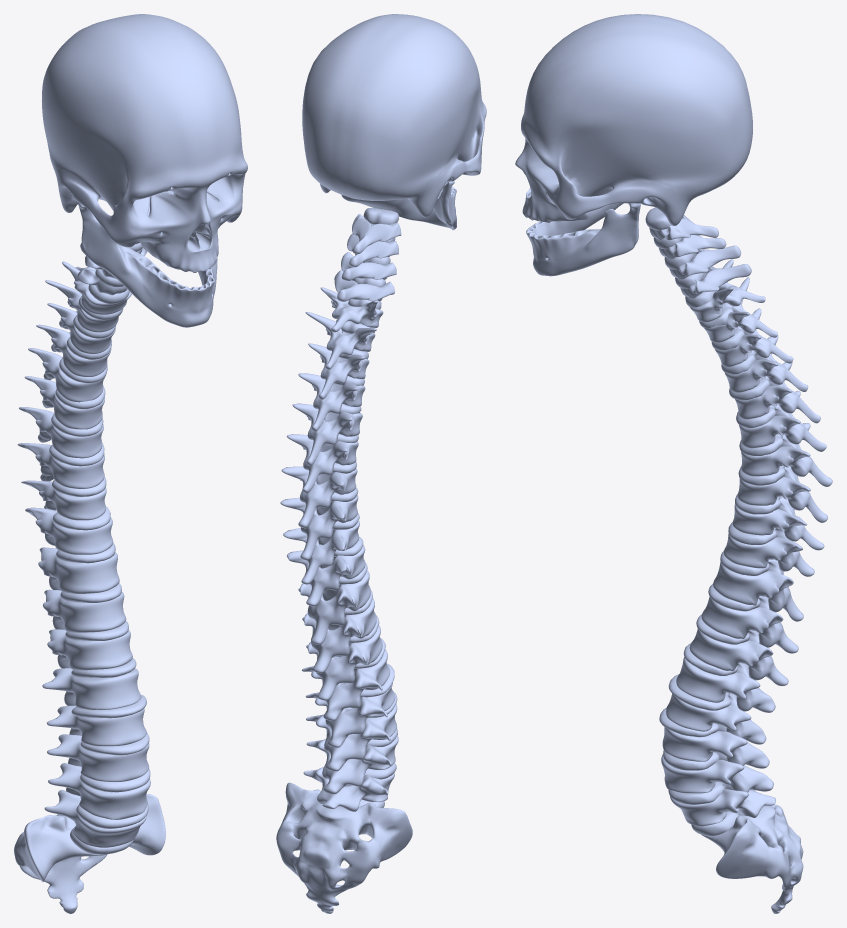
Rendered from spine.glb.
3 renders of one model, left to right at view 1: azimuth 30°, elevation 25°; view 2: azimuth 150°, elevation 25°; view 3: azimuth 270°, elevation 25°, orthographic. The views are drawn at different scales.
Parts seen in each view (by area): view 1: Male_Skeletal_Skull_Geo_skull bones_0, Male_Skeletal_Intervertabral_Discs_Geo_discs_0, Male_Skeletal_Sacrum_Geo_bones sacrum_0, Male_Skeletal_Mandible_Geo_jawbones_0, Male_Skeletal_L01_Geo_bones back_0, Male_Skeletal_L03_Geo_bones back_0, Male_Skeletal_L04_Geo_bones back_0, Male_Skeletal_T10_Geo_bones back_0, Male_Skeletal_T11_Geo_bones back_0, Male_Skeletal_T12_Geo_bones back_0, Male_Skeletal_L02_Geo_bones back_0, Male_Skeletal_T09_Geo_bones back_0 (+11 smaller); view 2: Male_Skeletal_Skull_Geo_skull bones_0, Male_Skeletal_Sacrum_Geo_bones sacrum_0, Male_Skeletal_Intervertabral_Discs_Geo_discs_0, Male_Skeletal_T10_Geo_bones back_0, Male_Skeletal_L03_Geo_bones back_0, Male_Skeletal_T11_Geo_bones back_0, Male_Skeletal_L04_Geo_bones back_0, Male_Skeletal_T12_Geo_bones back_0, Male_Skeletal_L01_Geo_bones back_0, Male_Skeletal_T06_Geo_bones back_0, Male_Skeletal_L02_Geo_bones back_0, Male_Skeletal_T07_Geo_bones back_0 (+14 smaller); view 3: Male_Skeletal_Skull_Geo_skull bones_0, Male_Skeletal_Intervertabral_Discs_Geo_discs_0, Male_Skeletal_Sacrum_Geo_bones sacrum_0, Male_Skeletal_Mandible_Geo_jawbones_0, Male_Skeletal_L01_Geo_bones back_0, Male_Skeletal_T10_Geo_bones back_0, Male_Skeletal_T11_Geo_bones back_0, Male_Skeletal_T12_Geo_bones back_0, Male_Skeletal_L04_Geo_bones back_0, Male_Skeletal_L03_Geo_bones back_0, Male_Skeletal_L02_Geo_bones back_0, Male_Skeletal_T09_Geo_bones back_0 (+14 smaller).
Part boxes in pixels (x1=…): Male_Skeletal_Skull_Geo_skull bones_0: x1=42, y1=14, x2=247, y2=272; Male_Skeletal_Intervertabral_Discs_Geo_discs_0: x1=49, y1=243, x2=150, y2=854; Male_Skeletal_Sacrum_Geo_bones sacrum_0: x1=14, y1=794, x2=165, y2=913; Male_Skeletal_Mandible_Geo_jawbones_0: x1=77, y1=202, x2=217, y2=327; Male_Skeletal_L01_Geo_bones back_0: x1=42, y1=668, x2=141, y2=709; Male_Skeletal_L03_Geo_bones back_0: x1=47, y1=734, x2=149, y2=782; Male_Skeletal_L04_Geo_bones back_0: x1=48, y1=763, x2=150, y2=819; Male_Skeletal_T10_Geo_bones back_0: x1=38, y1=547, x2=119, y2=593; Male_Skeletal_T11_Geo_bones back_0: x1=43, y1=589, x2=126, y2=632; Male_Skeletal_T12_Geo_bones back_0: x1=47, y1=629, x2=132, y2=670; Male_Skeletal_L02_Geo_bones back_0: x1=47, y1=705, x2=146, y2=746; Male_Skeletal_T09_Geo_bones back_0: x1=25, y1=507, x2=113, y2=554; Male_Skeletal_Skull_Geo_skull bones_0: x1=302, y1=14, x2=486, y2=217; Male_Skeletal_Sacrum_Geo_bones sacrum_0: x1=276, y1=782, x2=412, y2=913; Male_Skeletal_Intervertabral_Discs_Geo_discs_0: x1=320, y1=208, x2=398, y2=807; Male_Skeletal_T10_Geo_bones back_0: x1=298, y1=570, x2=370, y2=644; Male_Skeletal_L03_Geo_bones back_0: x1=306, y1=704, x2=397, y2=771; Male_Skeletal_T11_Geo_bones back_0: x1=302, y1=598, x2=376, y2=673; Male_Skeletal_L04_Geo_bones back_0: x1=306, y1=736, x2=398, y2=794; Male_Skeletal_T12_Geo_bones back_0: x1=306, y1=625, x2=382, y2=700; Male_Skeletal_L01_Geo_bones back_0: x1=302, y1=649, x2=389, y2=720; Male_Skeletal_T06_Geo_bones back_0: x1=281, y1=466, x2=357, y2=528; Male_Skeletal_L02_Geo_bones back_0: x1=305, y1=683, x2=395, y2=747; Male_Skeletal_T07_Geo_bones back_0: x1=280, y1=495, x2=358, y2=560; Male_Skeletal_Skull_Geo_skull bones_0: x1=515, y1=14, x2=752, y2=225; Male_Skeletal_Intervertabral_Discs_Geo_discs_0: x1=645, y1=207, x2=785, y2=836; Male_Skeletal_Sacrum_Geo_bones sacrum_0: x1=701, y1=789, x2=803, y2=913; Male_Skeletal_Mandible_Geo_jawbones_0: x1=526, y1=203, x2=640, y2=276; Male_Skeletal_L01_Geo_bones back_0: x1=676, y1=657, x2=775, y2=712; Male_Skeletal_T10_Geo_bones back_0: x1=713, y1=559, x2=803, y2=621; Male_Skeletal_T11_Geo_bones back_0: x1=701, y1=596, x2=798, y2=653; Male_Skeletal_T12_Geo_bones back_0: x1=689, y1=628, x2=788, y2=685; Male_Skeletal_L04_Geo_bones back_0: x1=661, y1=753, x2=773, y2=793; Male_Skeletal_L03_Geo_bones back_0: x1=662, y1=724, x2=769, y2=768; Male_Skeletal_L02_Geo_bones back_0: x1=666, y1=693, x2=766, y2=744; Male_Skeletal_T09_Geo_bones back_0: x1=723, y1=516, x2=814, y2=576.
Size of the model in its own units: 13.87 by 81.66 by 26.41.
